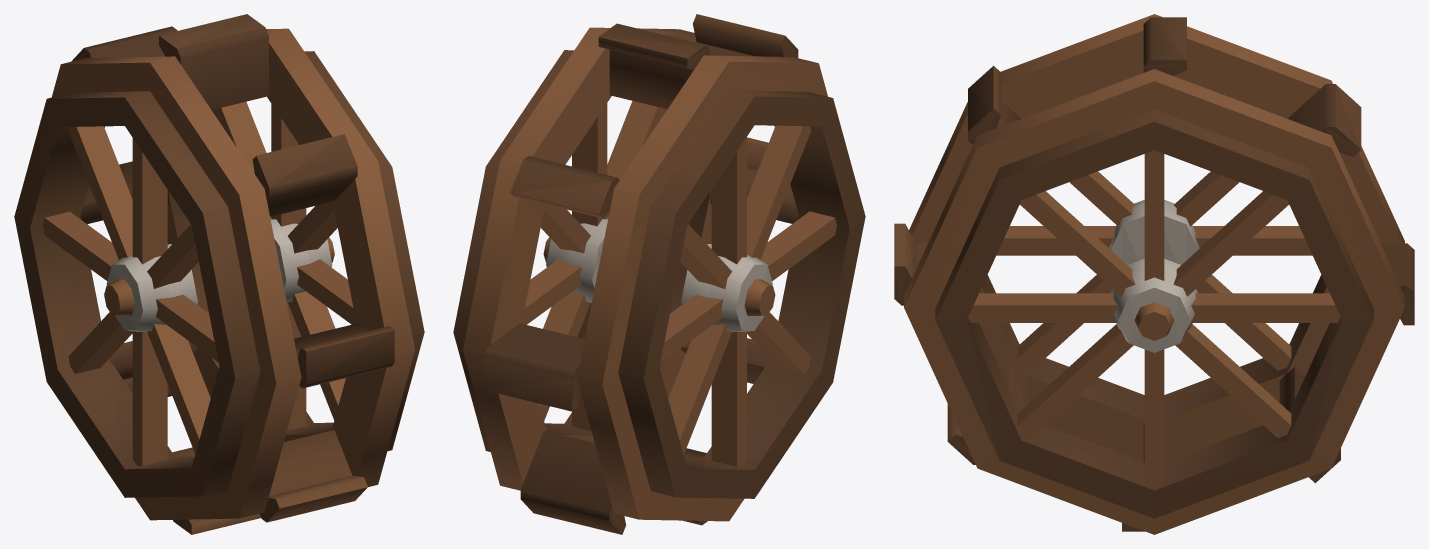
File: kenney_town_watermill.glb
3 renders of one model, left to right at view 1: azimuth 30°, elevation 25°; view 2: azimuth 150°, elevation 25°; view 3: azimuth 270°, elevation 25°, orthographic.
Visible parts, largest first — view 1: wood, stone; view 2: wood, stone; view 3: wood, stone.
Boxes of the visible parts, box(x1,y1,x2,y2) form: wood: box(14, 14, 424, 534); stone: box(106, 218, 332, 331); wood: box(453, 14, 865, 534); stone: box(546, 218, 772, 332); wood: box(894, 14, 1414, 534); stone: box(1109, 200, 1199, 352).
Bounding box in the file's own units: 0.85 × 1.8 × 1.8.
